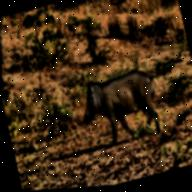boar: (70, 43, 192, 157)
